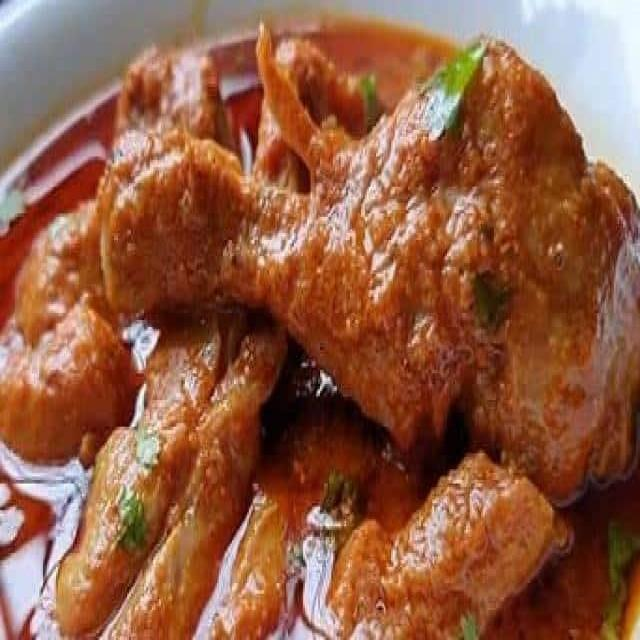chicken: (8, 44, 637, 638)
